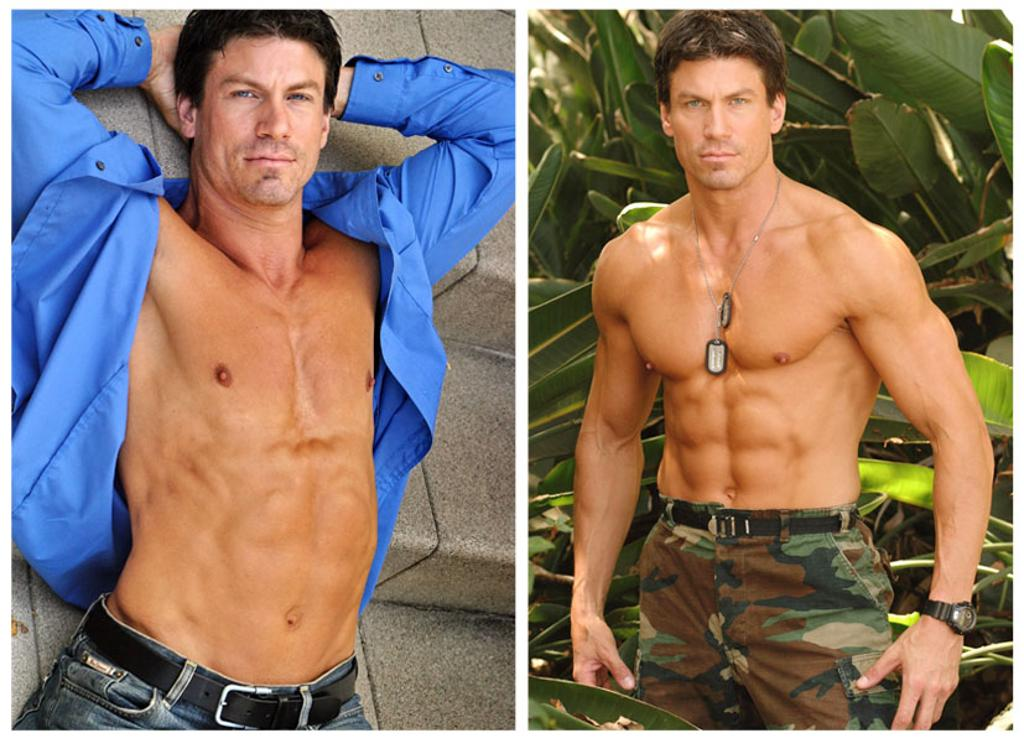face: (196, 36, 324, 204), (670, 58, 770, 188)
